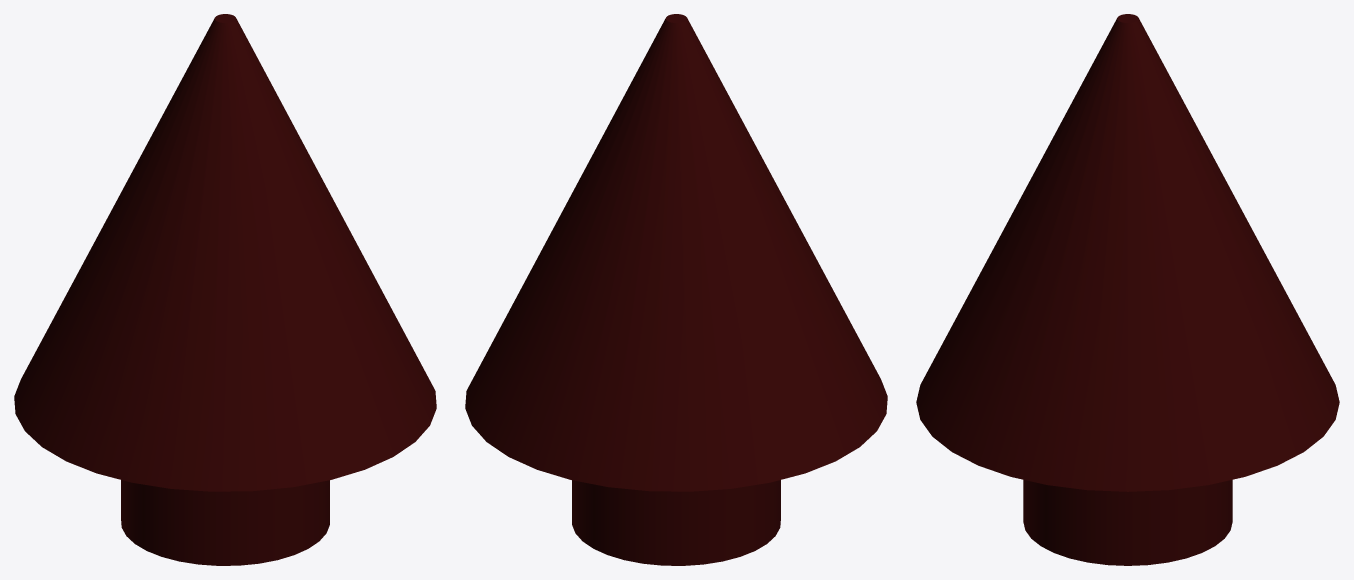
File: bullet.obj
3 views of the same model, side by side, from view 1: azimuth 30°, elevation 25°; view 2: azimuth 150°, elevation 25°; view 3: azimuth 270°, elevation 25° (orthographic).
Visible parts, largest first — view 1: Cylinder; view 2: Cylinder; view 3: Cylinder.
Part boxes in pixels (x1,y1,x2,y2): Cylinder: (14, 14, 436, 565); Cylinder: (465, 14, 887, 565); Cylinder: (916, 14, 1339, 565).
Size of the model in its own units: 2 by 2.62 by 2.
